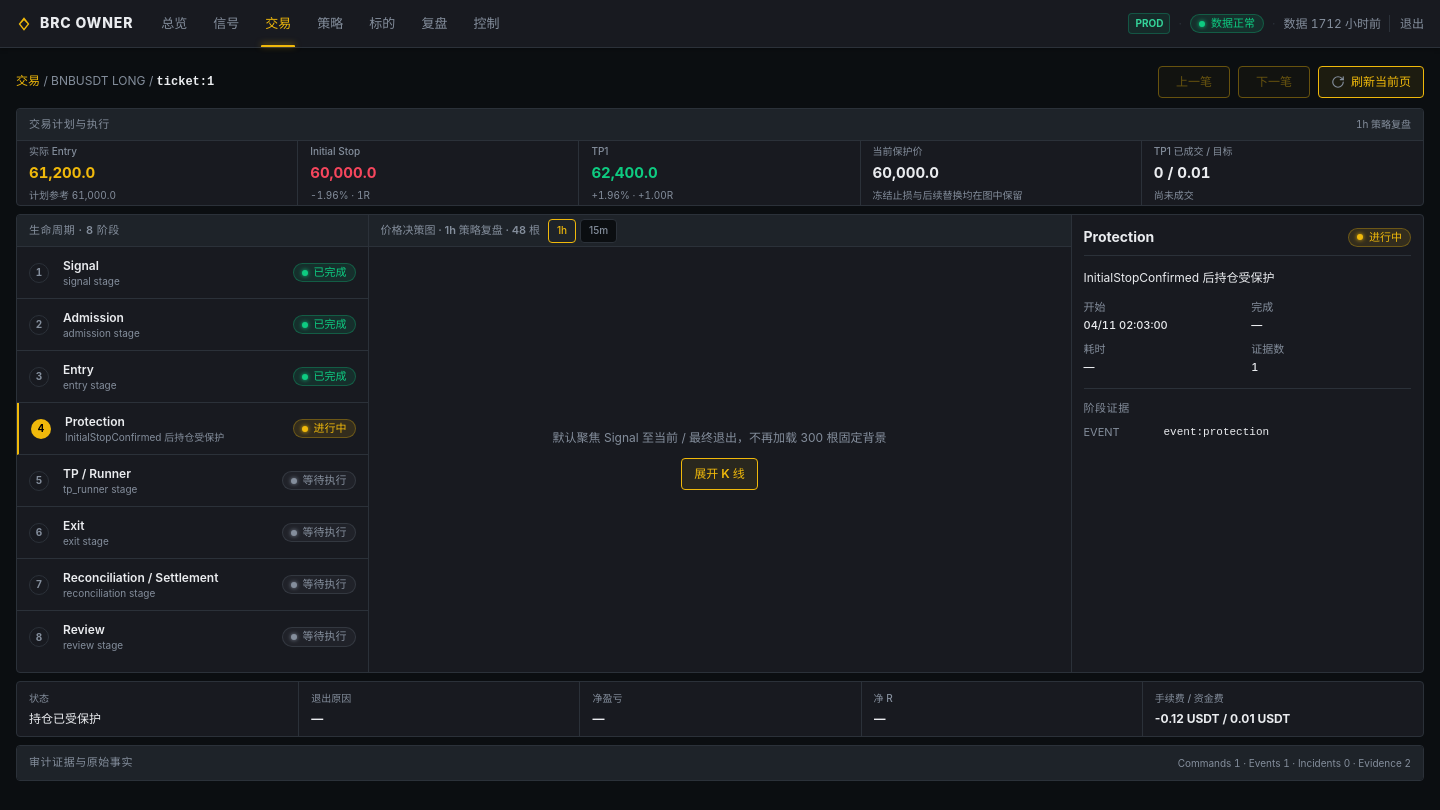
Test: shows eight stages before requesting candles
Expected: the text "已完成" is shown 3 times, x1=292 y1=263 x2=356 y2=282; x1=292 y1=315 x2=356 y2=334; x1=292 y1=367 x2=356 y2=386
Expected: the text "进行中" is shown 2 times, x1=292 y1=419 x2=356 y2=438; x1=1348 y1=228 x2=1411 y2=247
Click the button "展开 K 线" at (719, 474), box x1=681 y1=458 x2=758 y2=490
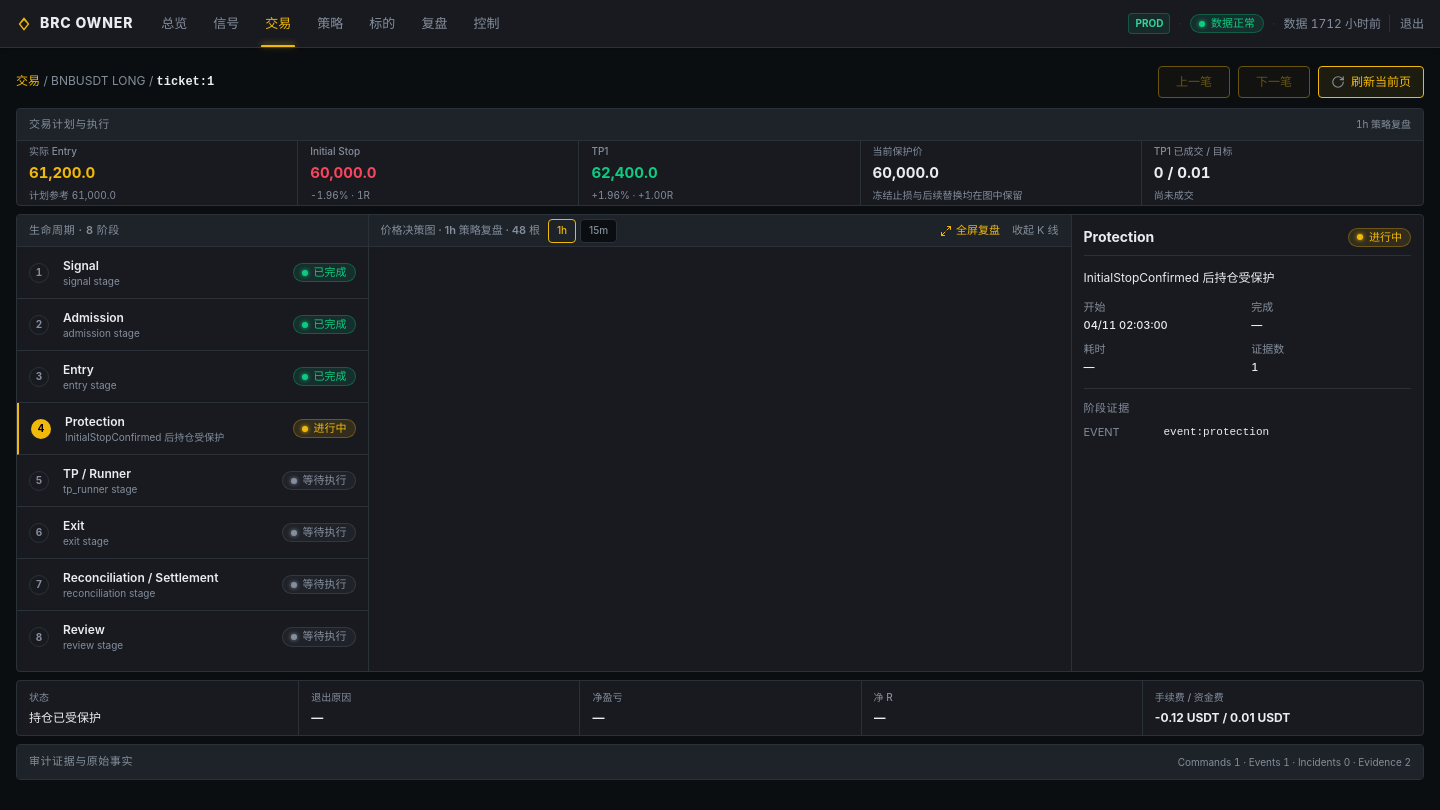
Expected: the element with test id "causality-chart" is shown, x1=368 y1=247 x2=1070 y2=667
